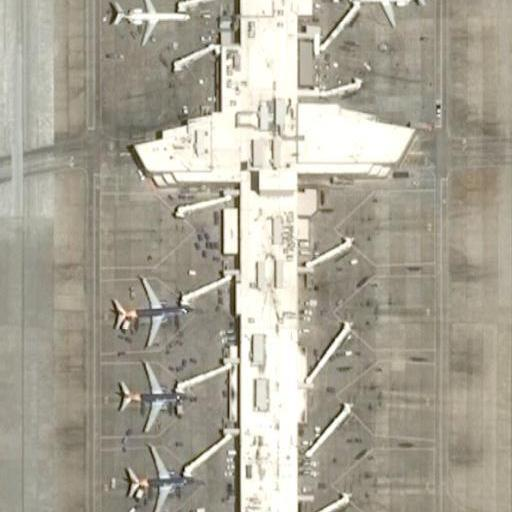Aircraft: (102, 274, 194, 347), (105, 361, 195, 432), (117, 445, 200, 512), (106, 0, 187, 46), (346, 0, 427, 28)
